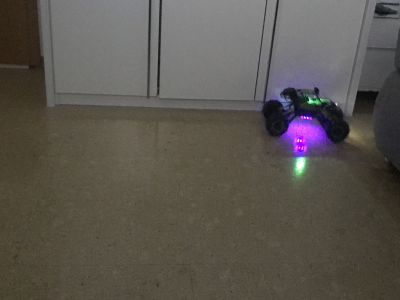remote control car: (258, 84, 351, 145)
